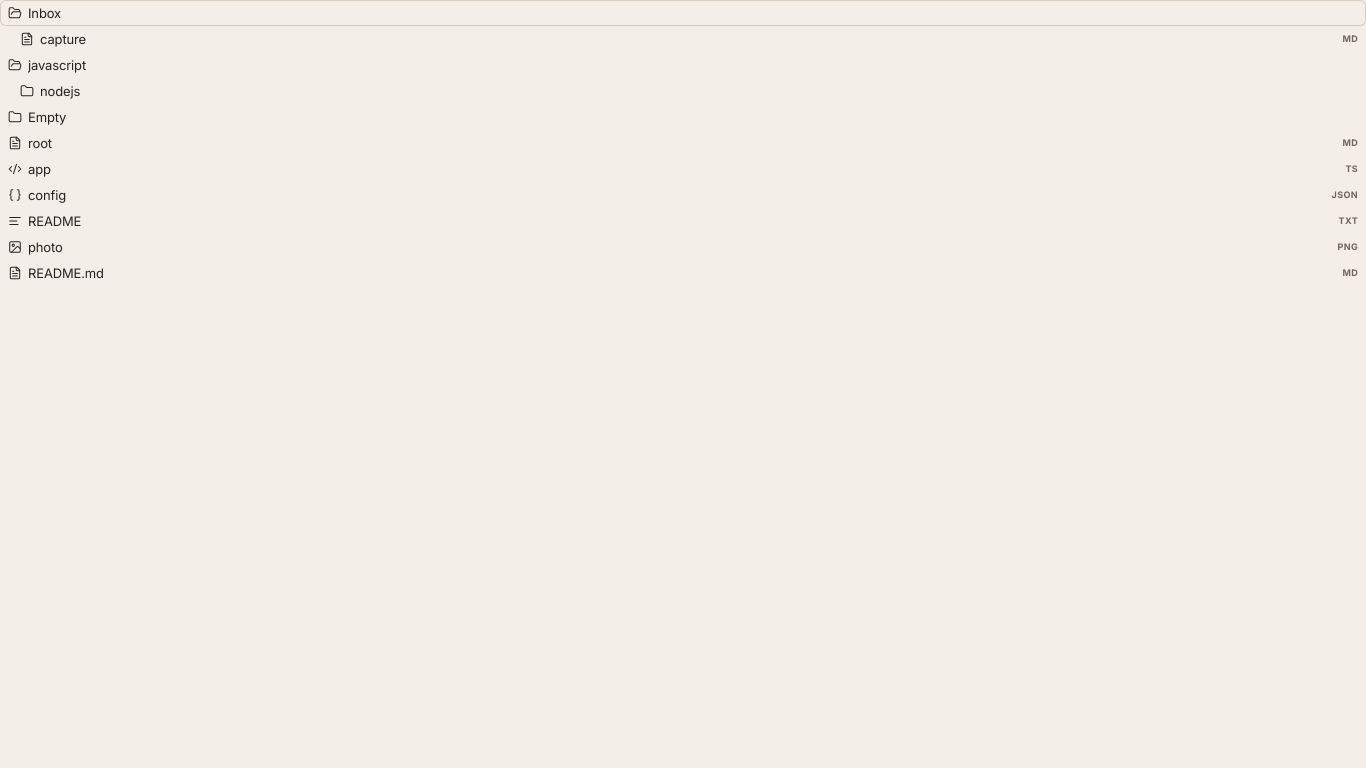
Test: FileTree navigation modes › selects and toggles a folder once for row, double-click, and Enter
expect the text "nodejs" is shown: met, box [40, 83, 80, 99]
Click the list item "javascript": (47, 65) [8, 57, 86, 73]
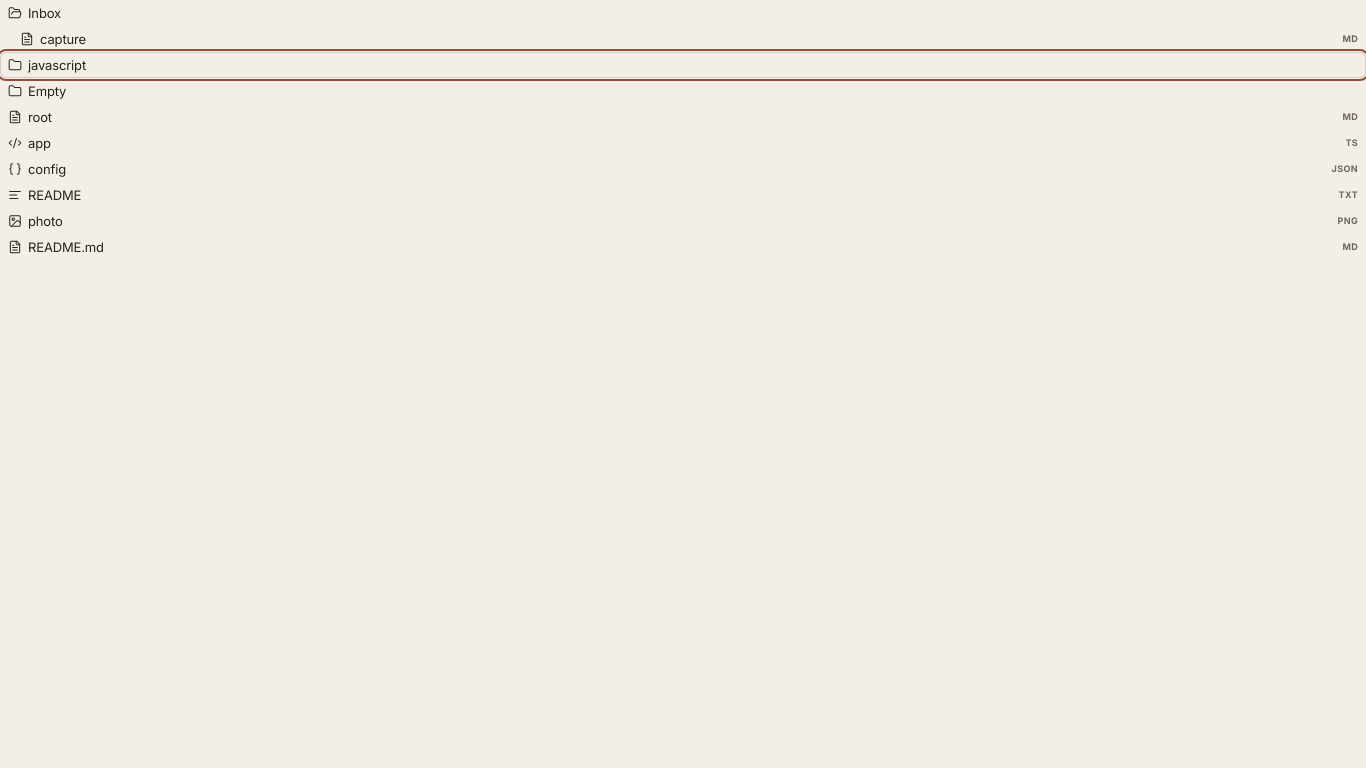
expect the text "nodejs" is gone: met
Double-click the list item "javascript": (683, 65) [0, 52, 1365, 78]
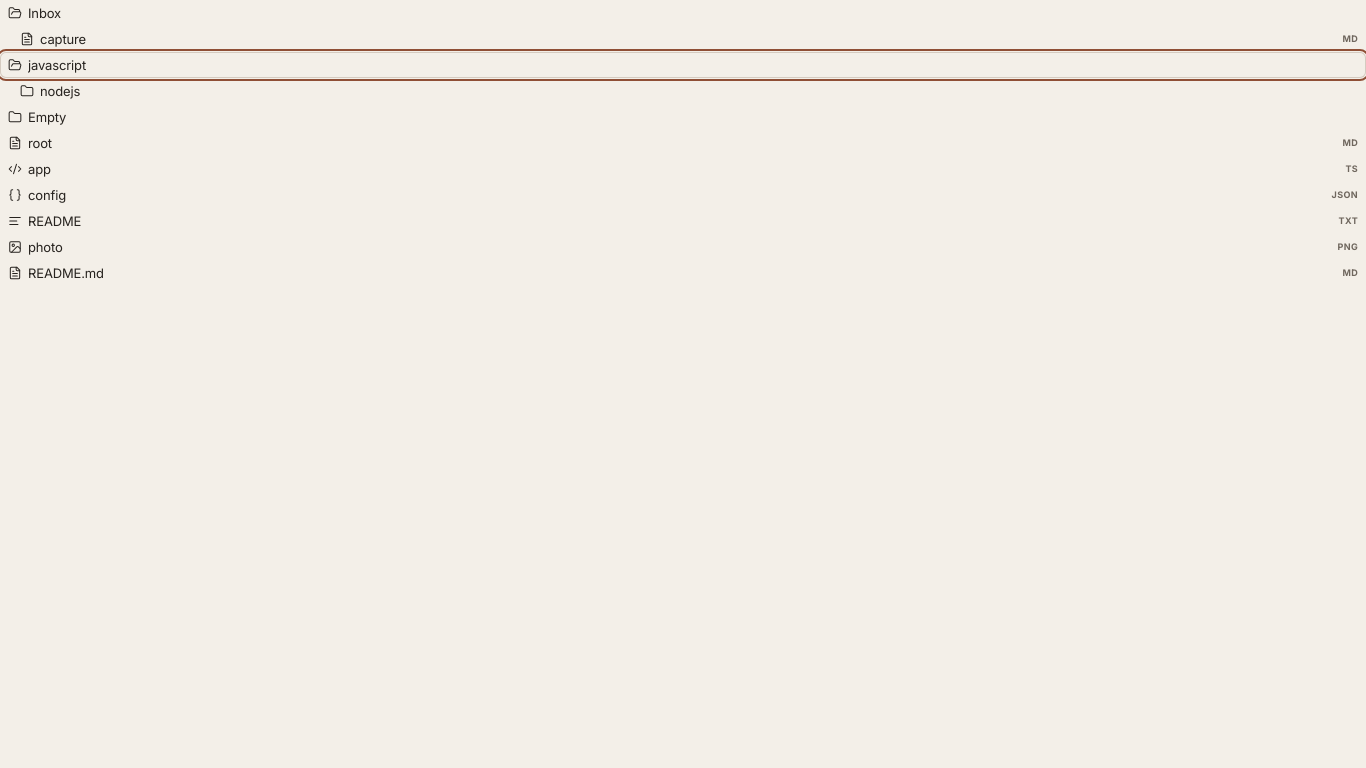
expect the text "nodejs" is shown: met, box [40, 83, 80, 99]
Click the list item "javascript": (683, 65) [0, 52, 1365, 78]
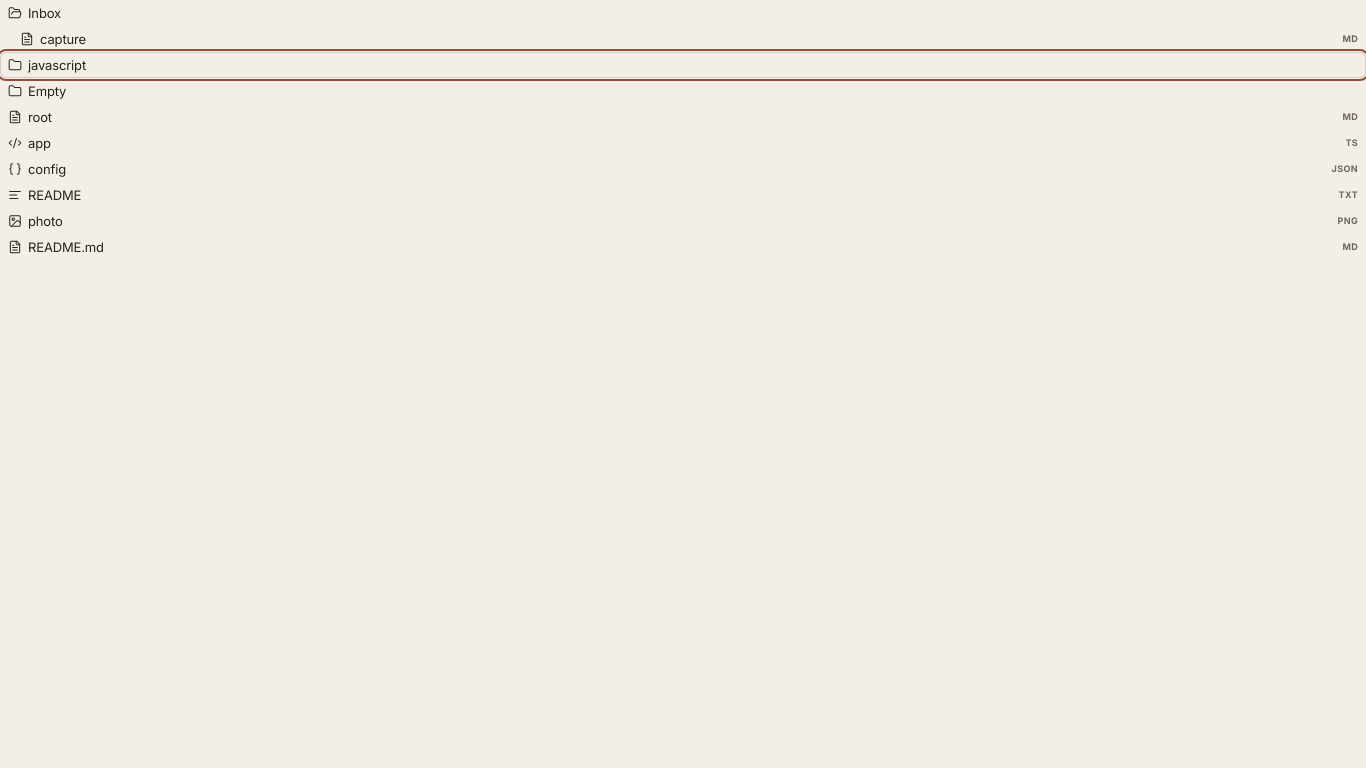
expect the text "nodejs" is gone: met
Press Enter in the element named "Vault files and folders", box [0, 0, 1365, 276]
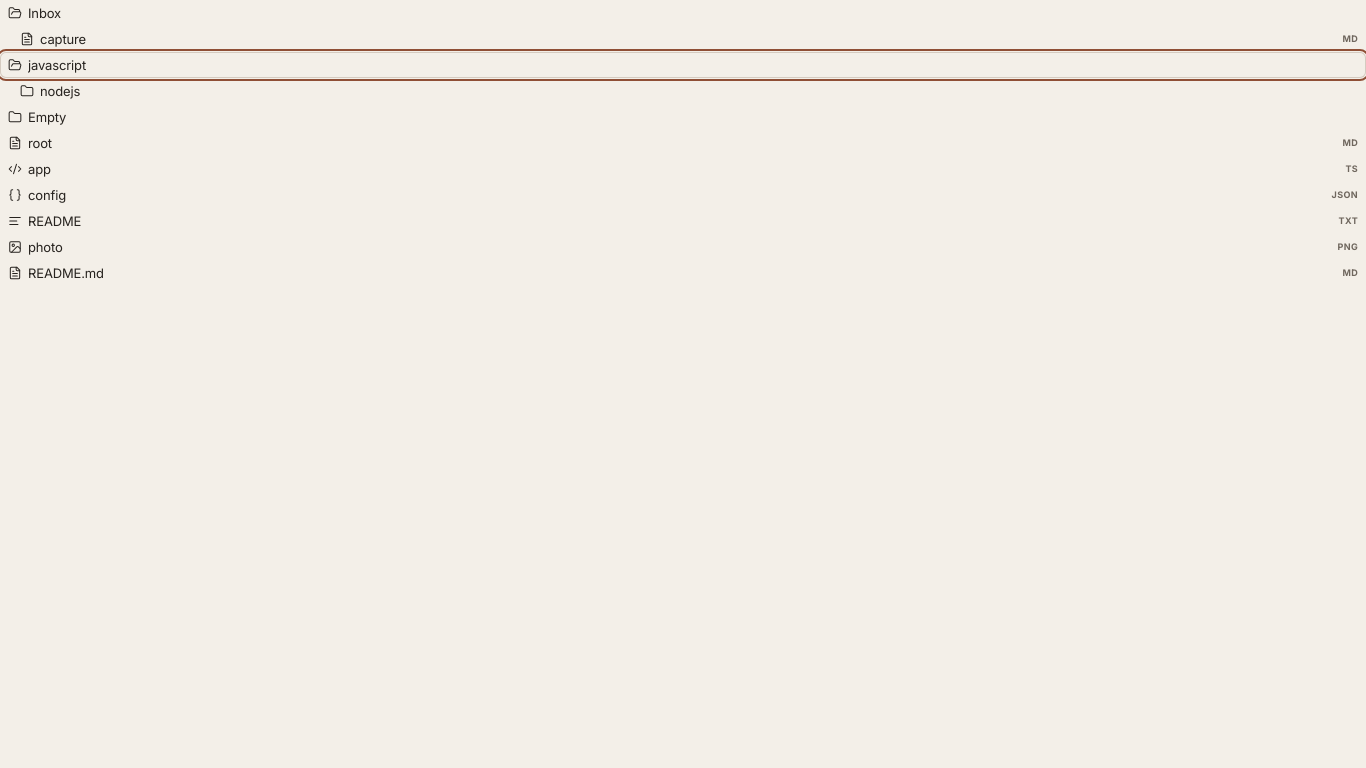
expect the text "nodejs" is shown: met, box [40, 83, 80, 99]
